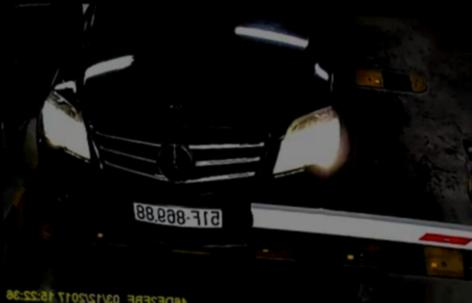License_Plate: (134, 197, 223, 232)
